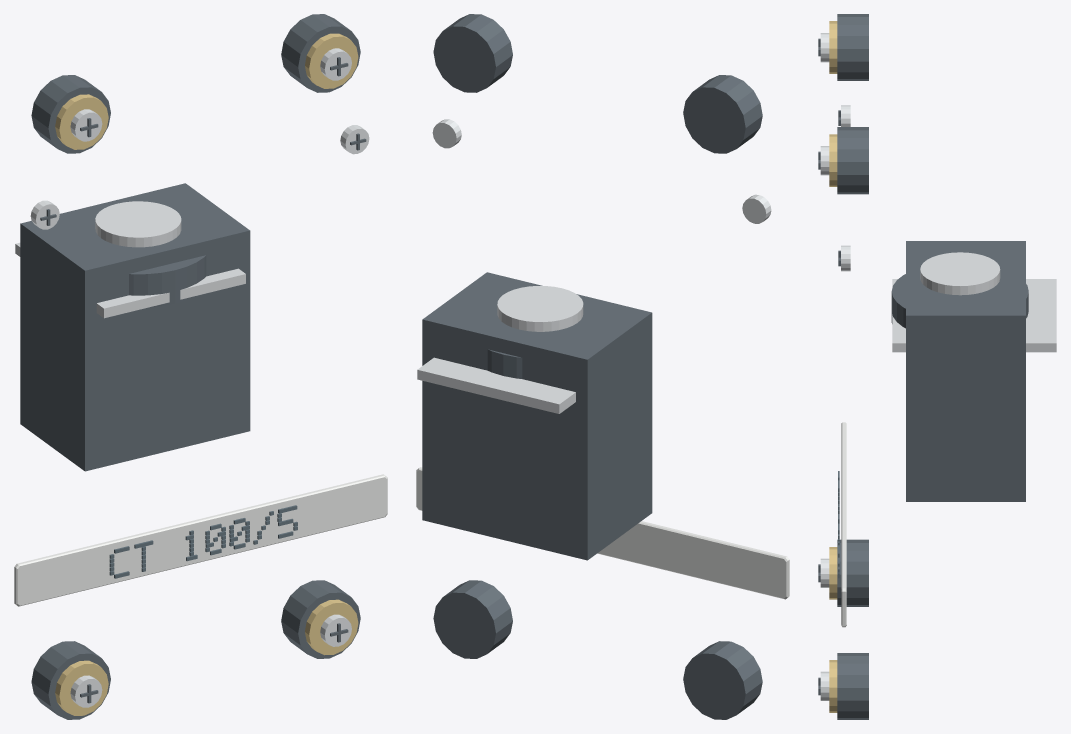
File: currentTransformer.glb
The picture shows the model from 3 angles, left to right: view 1: azimuth 30°, elevation 25°; view 2: azimuth 150°, elevation 25°; view 3: azimuth 270°, elevation 25°; orthographic projection. The views are drawn at different scales.
Visible parts, largest first — view 1: currentTransformer-preview; view 2: currentTransformer-preview; view 3: currentTransformer-preview.
Part boxes in pixels (box(x1,y1,x2,y2)): currentTransformer-preview: box(14, 14, 387, 719); currentTransformer-preview: box(416, 14, 789, 719); currentTransformer-preview: box(818, 14, 1056, 719).
Bounding box in the file's own units: 1.86 × 3.02 × 1.11.
